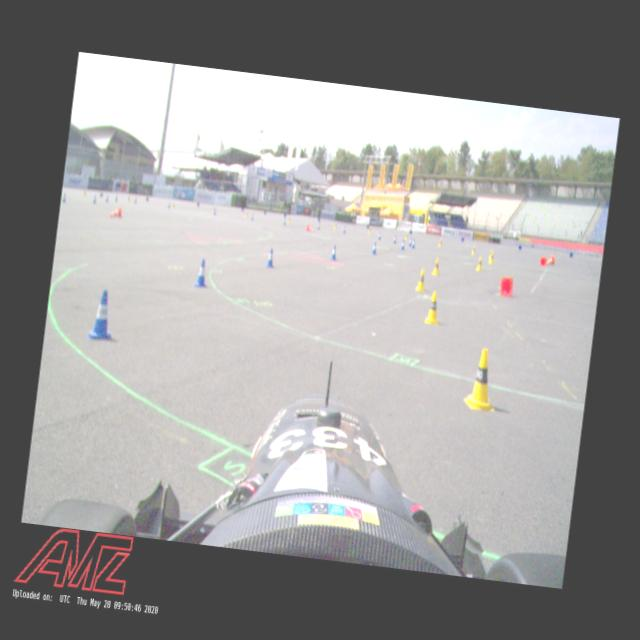blue_cone: (86, 288, 116, 340), (193, 258, 210, 288), (264, 247, 276, 268), (329, 243, 338, 260), (370, 240, 378, 254), (400, 238, 406, 250), (410, 237, 416, 248), (376, 231, 382, 240), (392, 234, 397, 243), (408, 236, 412, 247), (568, 251, 574, 258), (282, 216, 286, 224), (518, 244, 522, 251), (316, 222, 320, 229), (250, 212, 253, 220), (460, 236, 464, 242), (342, 226, 345, 233)
orange_cone: (498, 274, 514, 298), (109, 204, 123, 218), (546, 254, 556, 266), (538, 255, 548, 266), (305, 221, 314, 232)
yellow_cone: (462, 345, 503, 413), (423, 288, 442, 325), (414, 268, 428, 292), (431, 256, 441, 276), (476, 255, 484, 271), (488, 251, 494, 264), (488, 248, 494, 260), (470, 245, 476, 254), (438, 237, 442, 247), (332, 220, 337, 228), (404, 232, 408, 240), (368, 226, 372, 233), (287, 215, 290, 222)
